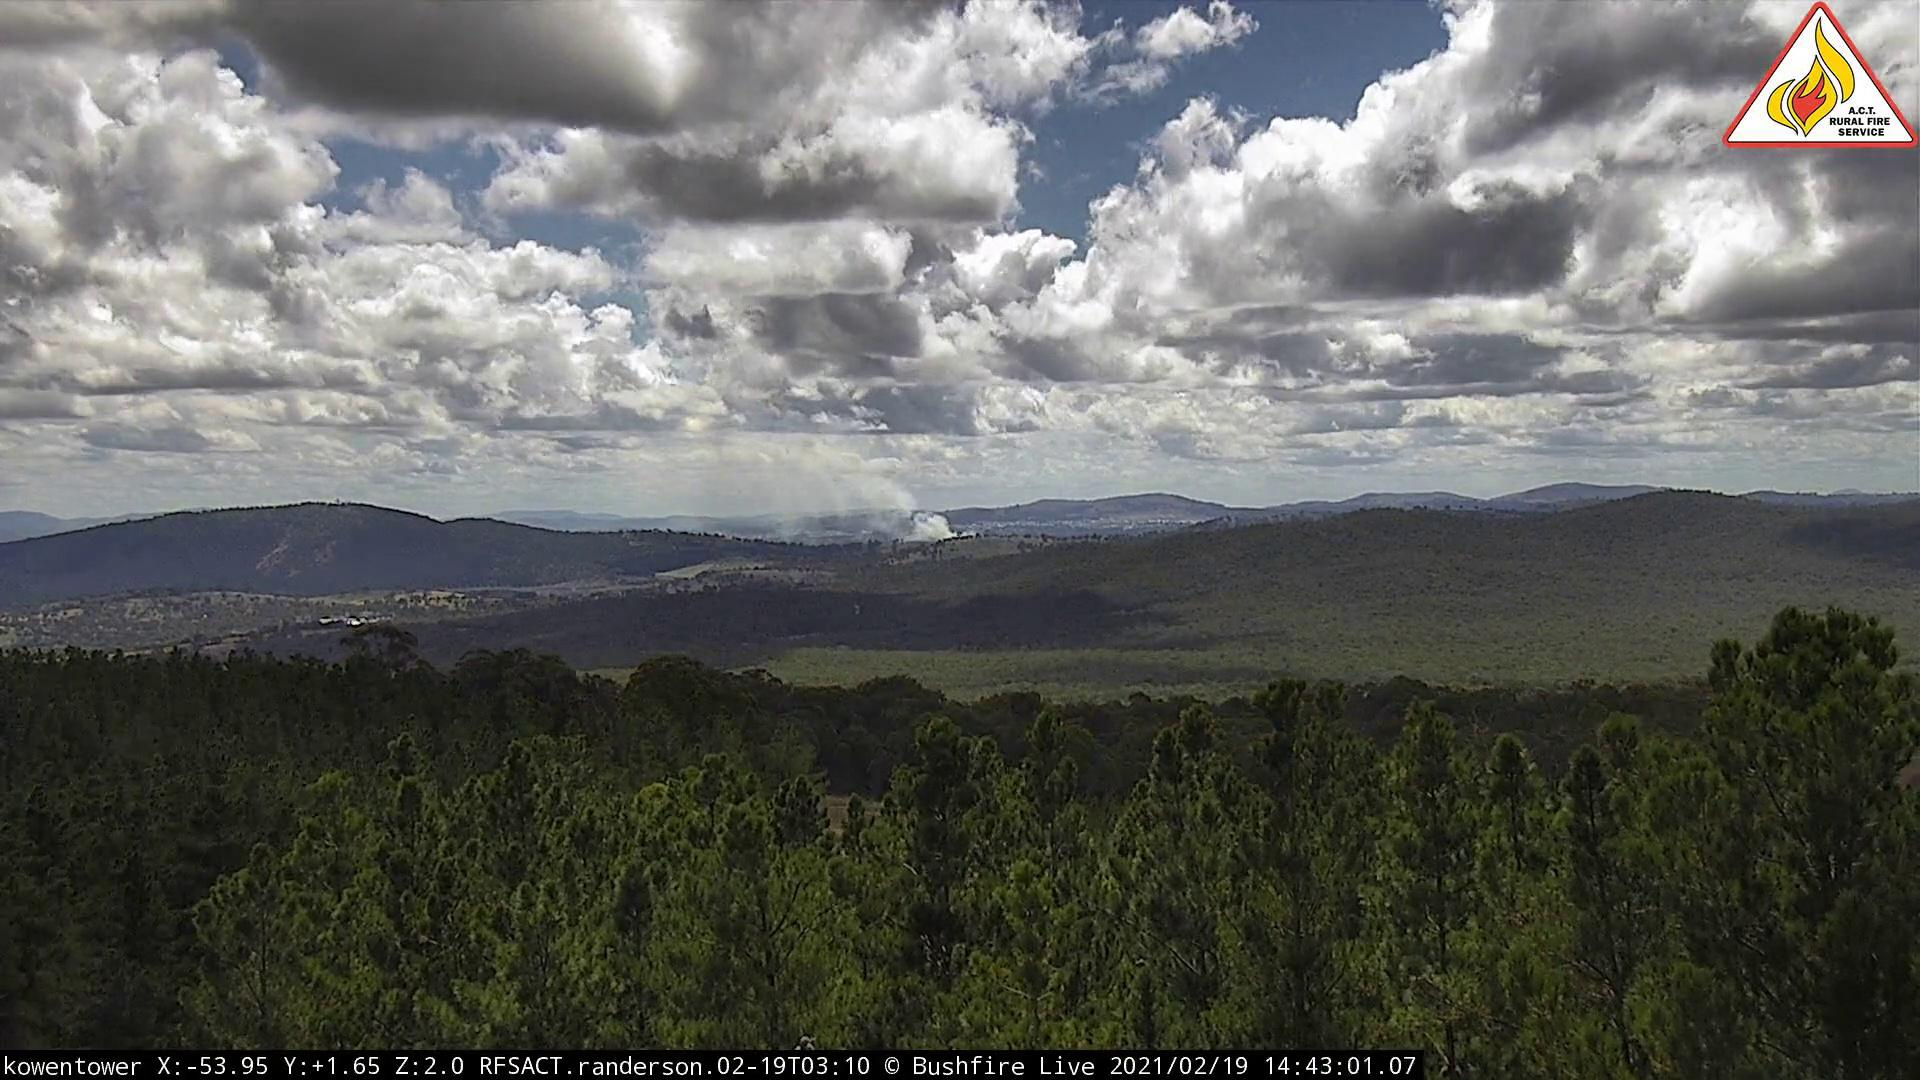Smoke: (667, 435, 986, 550)
